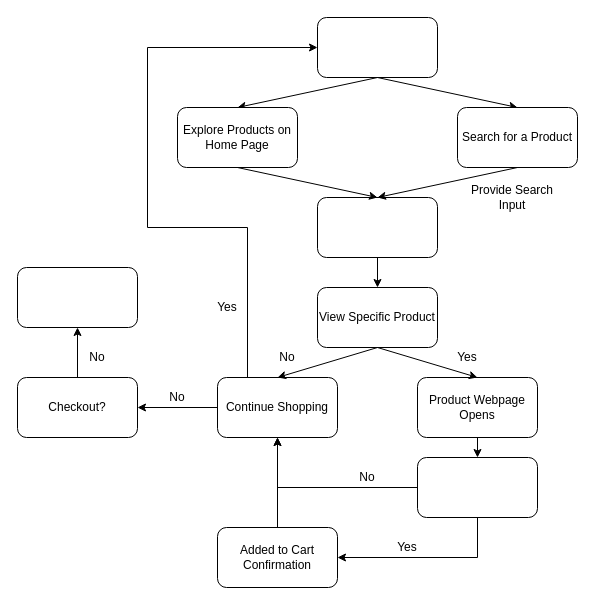
The diagram is 595 pixels wide and 605 high, and some of its shapes have lost their labels. The centre of each missing label's shape, as x and y in pixels:
Add to Cart?: point (477, 487)
Leave Page: point (77, 297)
Looking over Products: point (377, 227)
User Enters the Website: point (377, 47)
